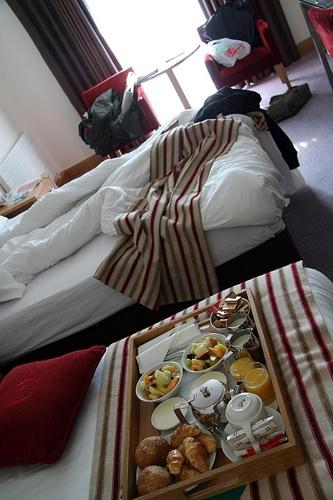grape: (185, 358, 192, 366), (187, 354, 195, 360)
